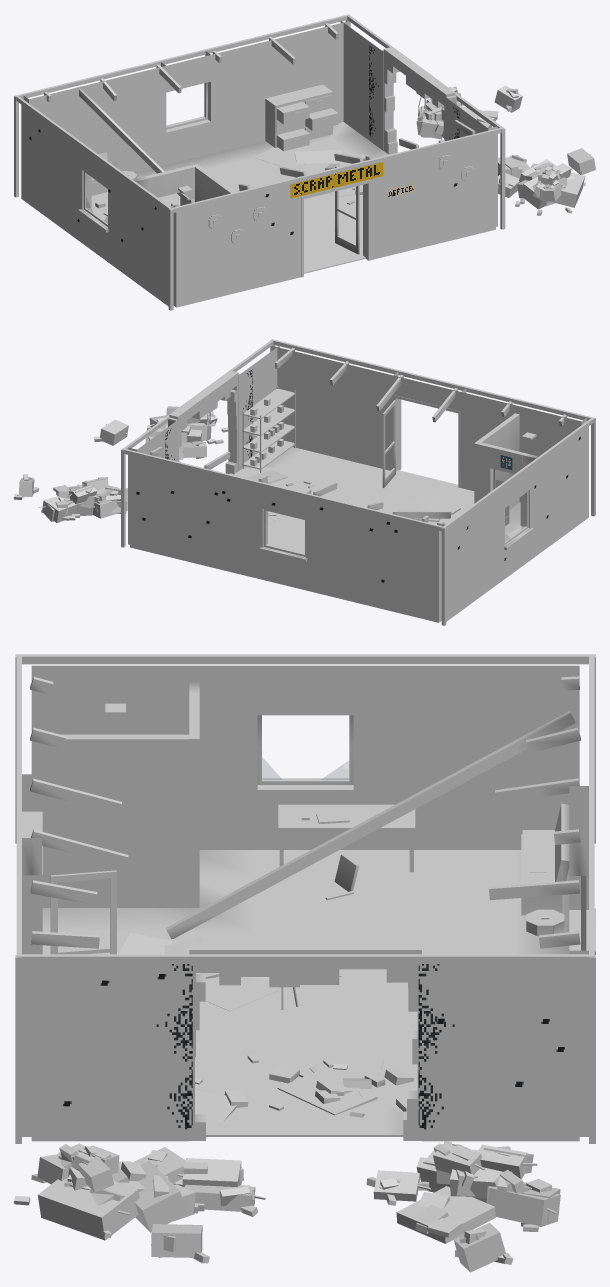
The model's file is junk_office.glb.
3 views of the same model, one above another, from view 1: azimuth 30°, elevation 25°; view 2: azimuth 150°, elevation 25°; view 3: azimuth 270°, elevation 25° (orthographic). The views are drawn at different scales.
Visible parts, largest first — view 1: junk_office; view 2: junk_office; view 3: junk_office.
Part boxes in pixels (x1,y1,x2,y2): junk_office: [14, 14, 595, 310]; junk_office: [14, 339, 595, 625]; junk_office: [14, 654, 595, 1272].
Bounding box in the file's own units: 14.81 × 3.18 × 8.5.
Materials: 4 (3 with a texture image).
